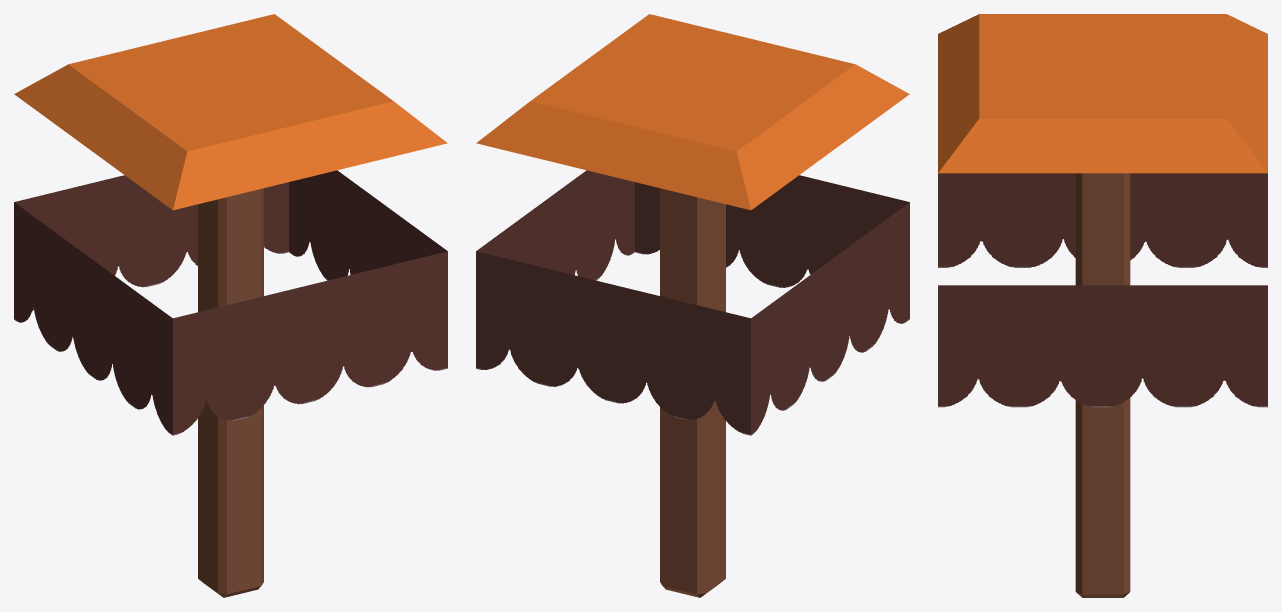
Rendered from Tree 4.fbx.
3 views of the same model, side by side, from view 1: azimuth 30°, elevation 25°; view 2: azimuth 150°, elevation 25°; view 3: azimuth 270°, elevation 25° (orthographic). The views are drawn at different scales.
Parts seen in each view (by area): view 1: Tree_Crown_1, Trunk; view 2: Tree_Crown_1, Trunk; view 3: Tree_Crown_1, Trunk.
Part boxes in pixels (<box>): Tree_Crown_1: <box>14,14,447,435</box>; Trunk: <box>198,188,263,597</box>; Tree_Crown_1: <box>476,14,909,435</box>; Trunk: <box>660,188,725,597</box>; Tree_Crown_1: <box>938,14,1267,407</box>; Trunk: <box>1075,173,1130,597</box>.
Size of the model in its own units: 1.2 by 2.1 by 1.2.
